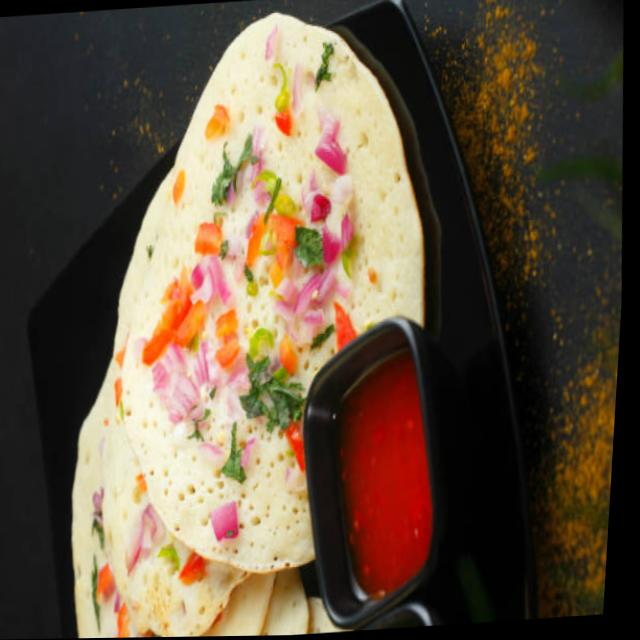DOSA: (67, 1, 440, 638)
RED CHUTNEY: (300, 317, 462, 611)
